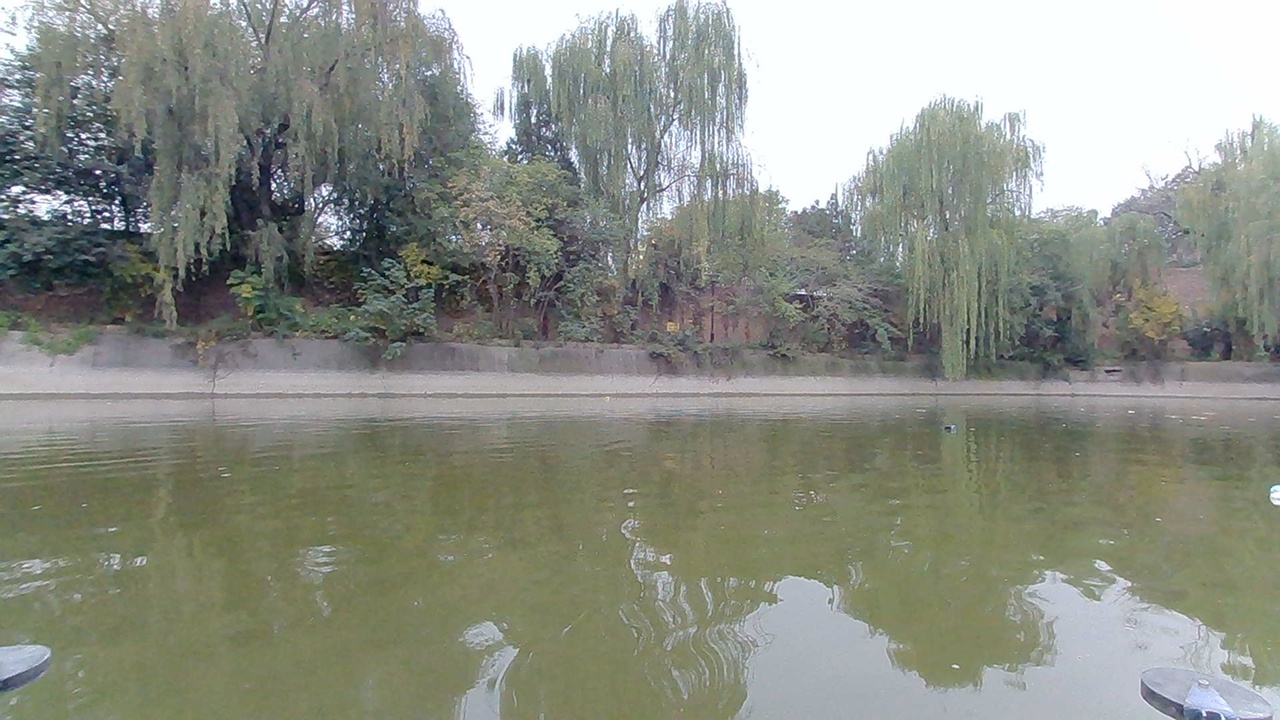bottle: (936, 414, 964, 440), (1255, 478, 1280, 507)
